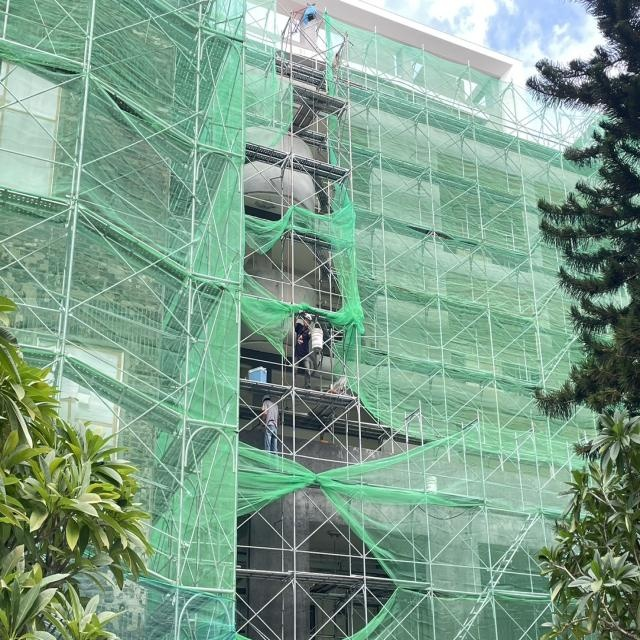Con_Casco: (304, 314, 312, 325), (262, 394, 270, 404)
